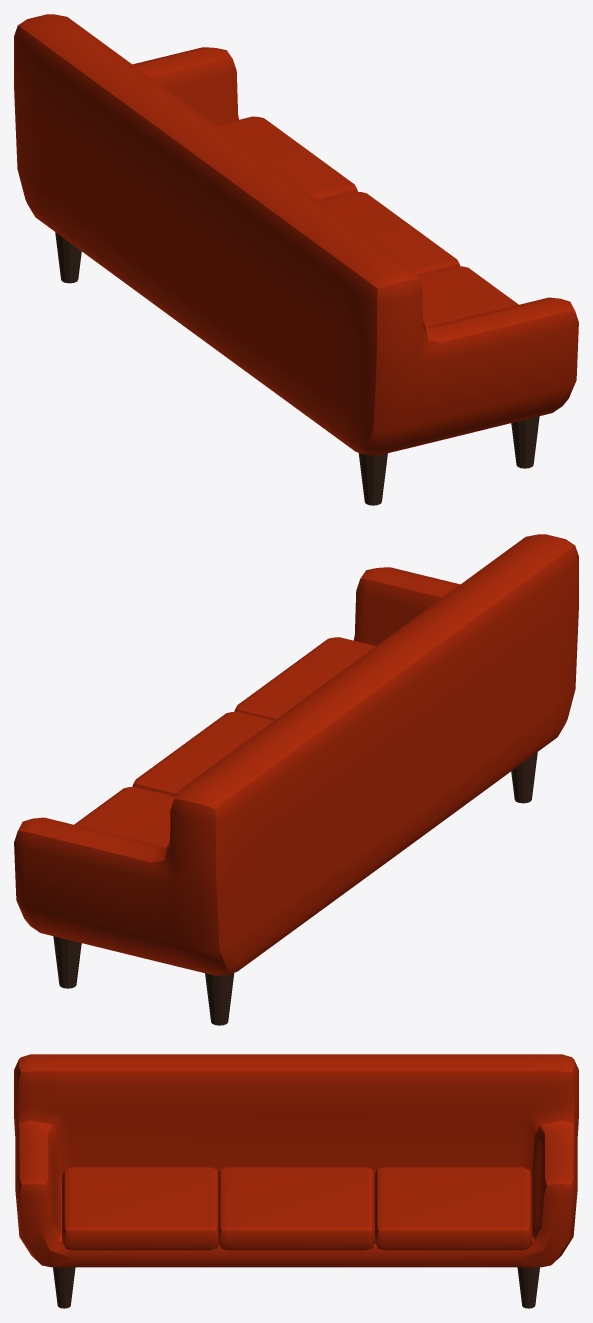
The model's file is sofa_01.fbx.
3 views of the same model, one above another, from view 1: azimuth 30°, elevation 25°; view 2: azimuth 150°, elevation 25°; view 3: azimuth 270°, elevation 25° (orthographic). The views are drawn at different scales.
Parts seen in each view (by area): view 1: sofa_01; view 2: sofa_01; view 3: sofa_01.
Part boxes in pixels (left/top/right/bottom): sofa_01: left=14, top=14, right=578, bottom=505; sofa_01: left=14, top=534, right=578, bottom=1025; sofa_01: left=14, top=1054, right=578, bottom=1308.
Size of the model in its own units: 0.8642 by 0.9105 by 2.46.
